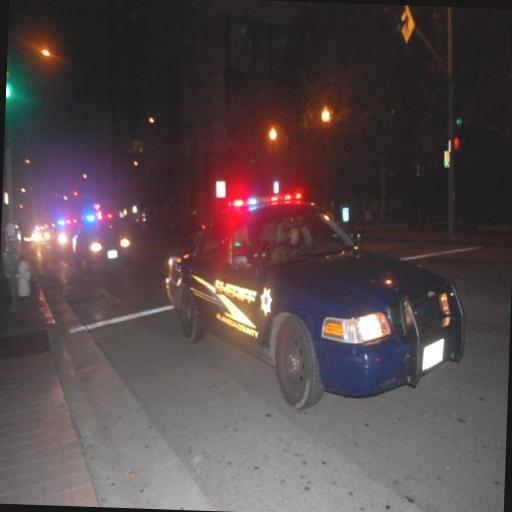Ambulance: (166, 184, 471, 418), (74, 210, 140, 282)
